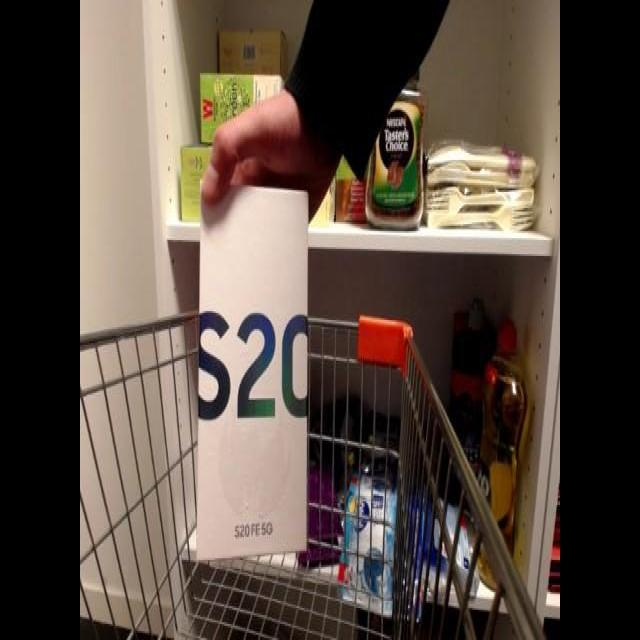Samsung S20: (188, 170, 314, 570)
